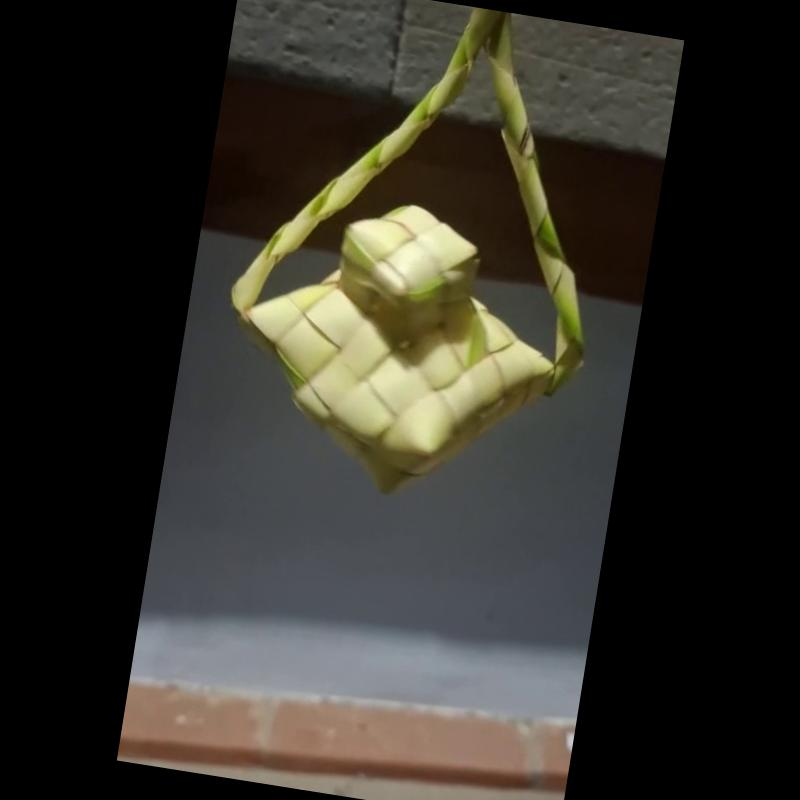Tipat Gong: (225, 8, 586, 494)
